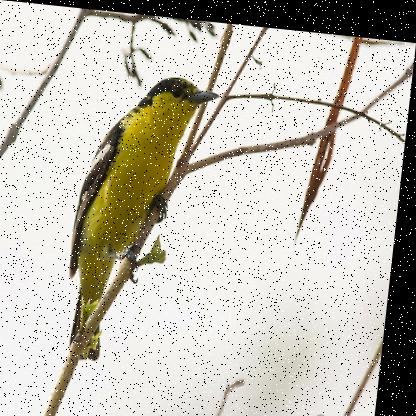Burung: (67, 65, 222, 365)
